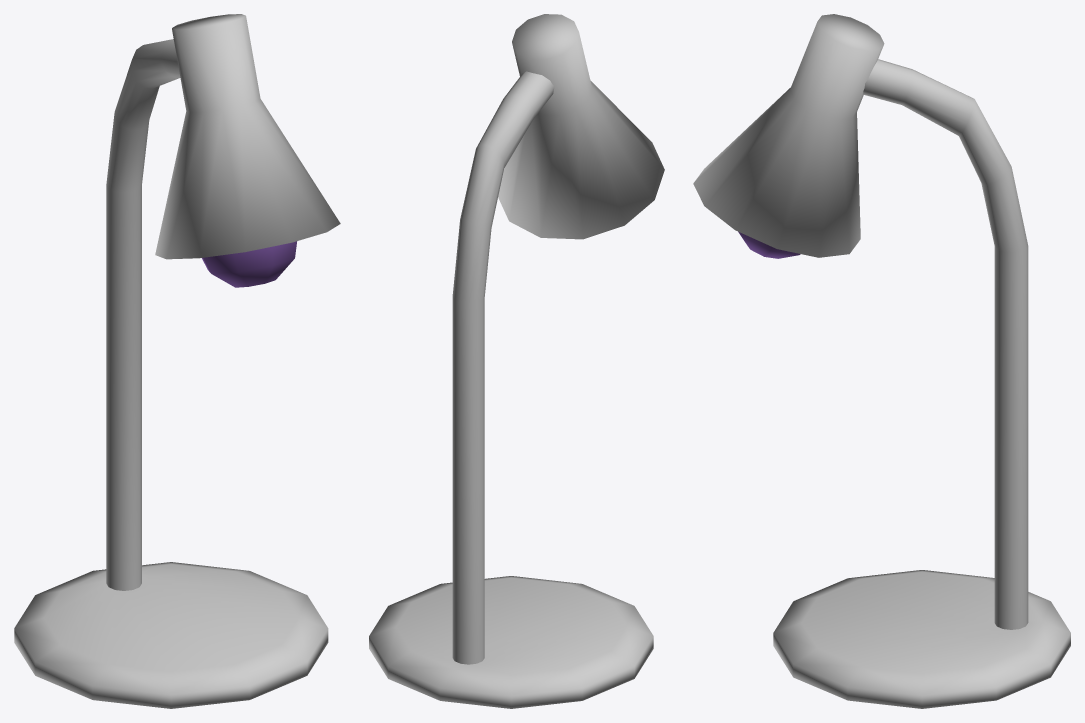
Rendered from lamp_wbulb_off.glb.
3 views of the same model, side by side, from view 1: azimuth 30°, elevation 25°; view 2: azimuth 150°, elevation 25°; view 3: azimuth 270°, elevation 25° (orthographic). The views are drawn at different scales.
Visible parts, largest first — view 1: Lamp_wBulb_off; view 2: Lamp_wBulb_off; view 3: Lamp_wBulb_off.
Boxes of the visible parts, bbox=[...] form: Lamp_wBulb_off: bbox=[14, 14, 340, 708]; Lamp_wBulb_off: bbox=[369, 14, 664, 708]; Lamp_wBulb_off: bbox=[693, 14, 1070, 708].
Size of the model in its own units: 0.32 by 0.7416 by 0.4064.
